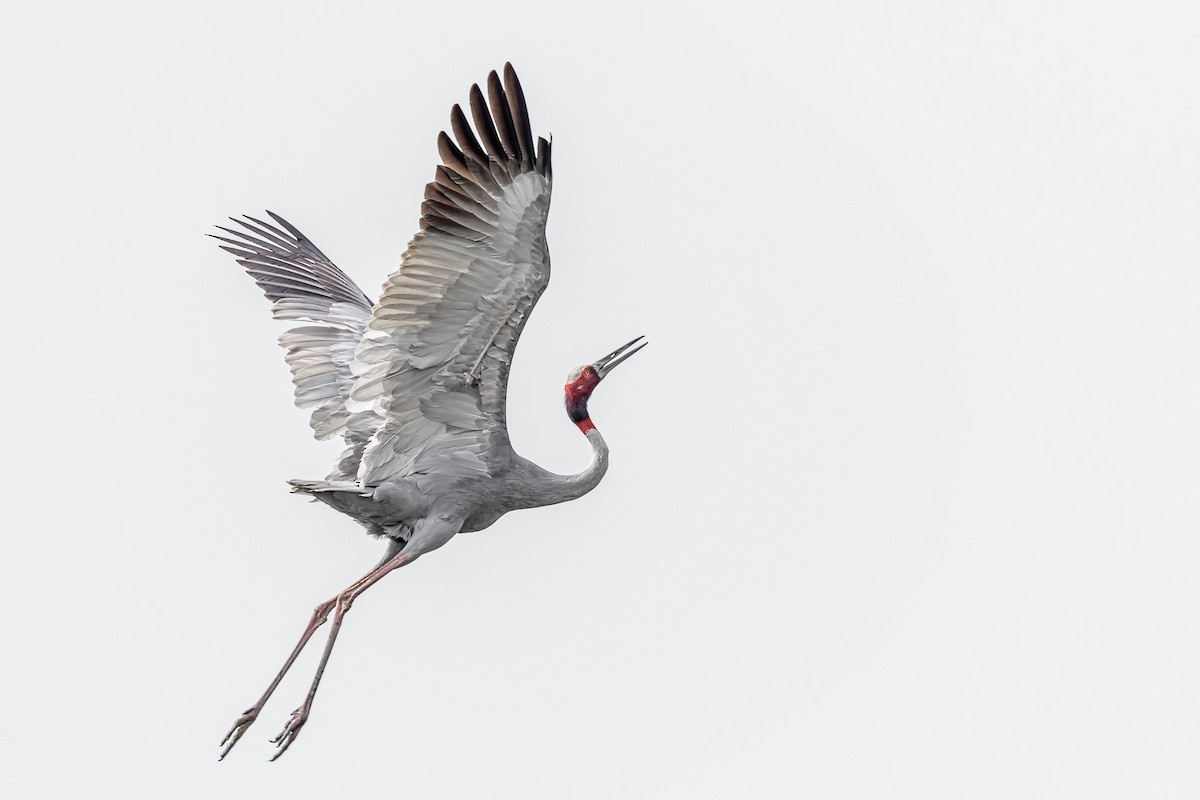crane: (207, 58, 656, 769)
